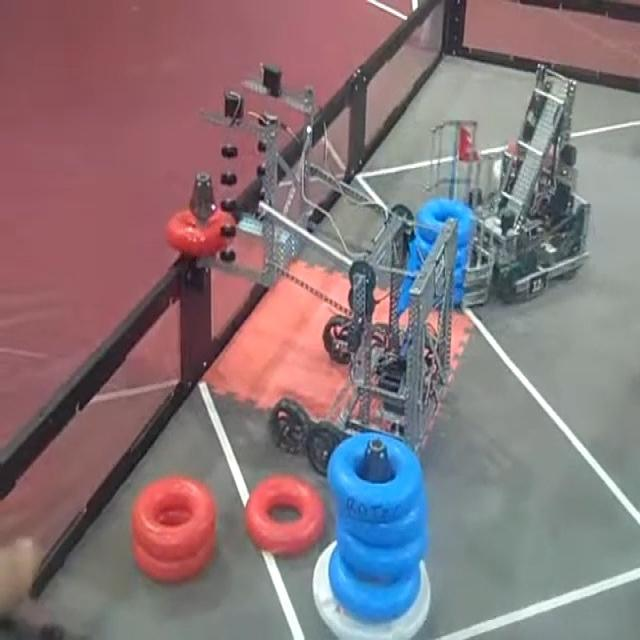Blue-Ring: (328, 433, 425, 522), (329, 547, 420, 621), (338, 525, 429, 581), (339, 505, 426, 544), (416, 198, 474, 246)
Red-Ring: (131, 475, 215, 559), (245, 475, 325, 554), (132, 538, 215, 582), (166, 208, 236, 258)
